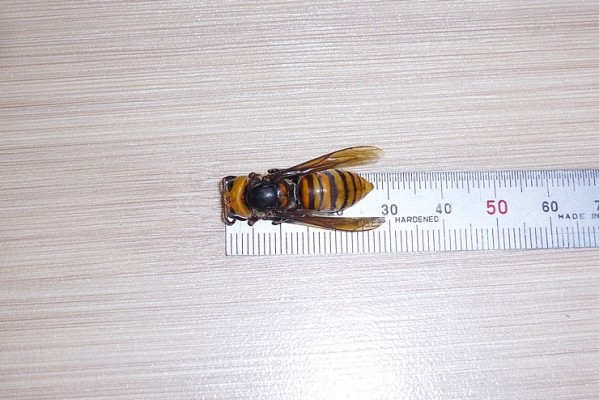asian_giant_hornet: (219, 146, 385, 234)
